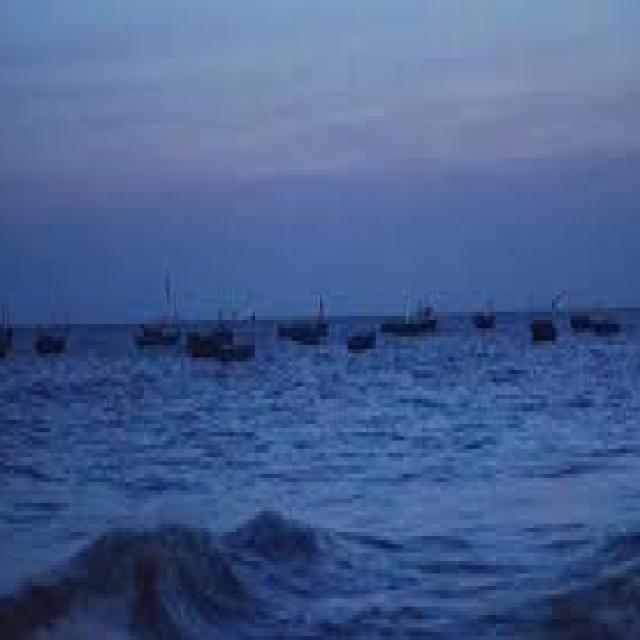fishing boat: (188, 290, 252, 366), (125, 278, 184, 350), (570, 278, 621, 346), (376, 291, 442, 341), (32, 292, 72, 367), (280, 296, 328, 346), (344, 322, 379, 358), (522, 308, 555, 346), (0, 300, 21, 358), (471, 284, 499, 325)
